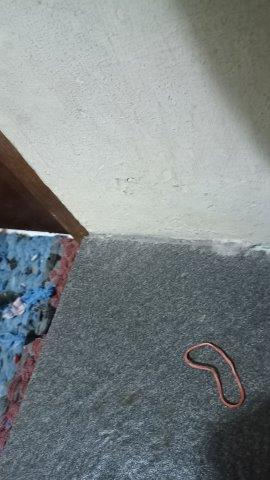karet: (184, 342, 245, 407)
